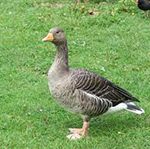geese: (41, 24, 67, 50)
